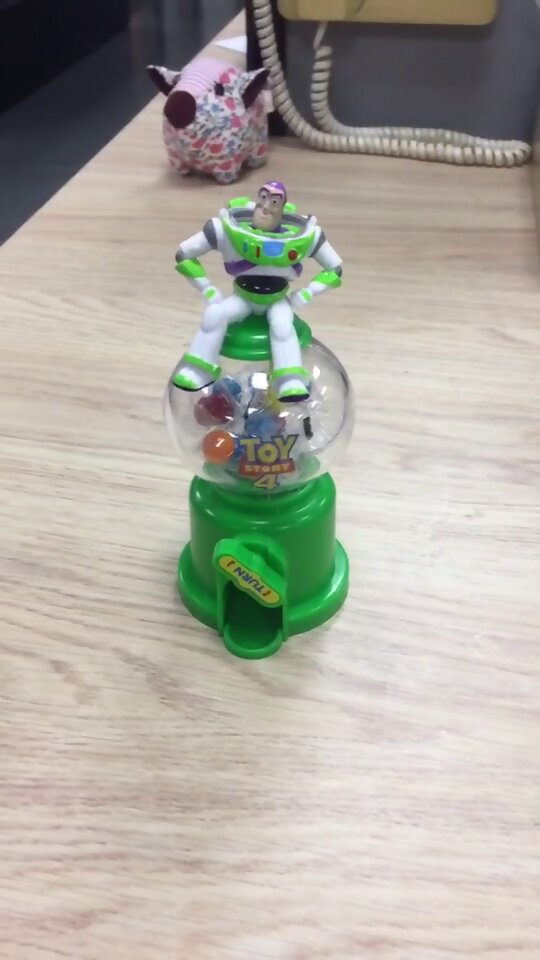buzz: (159, 175, 356, 667)
